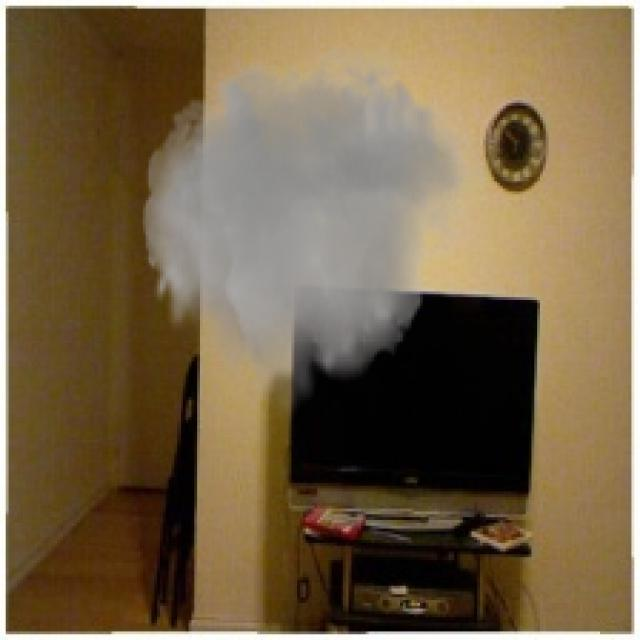Smoke: (134, 28, 494, 426)
